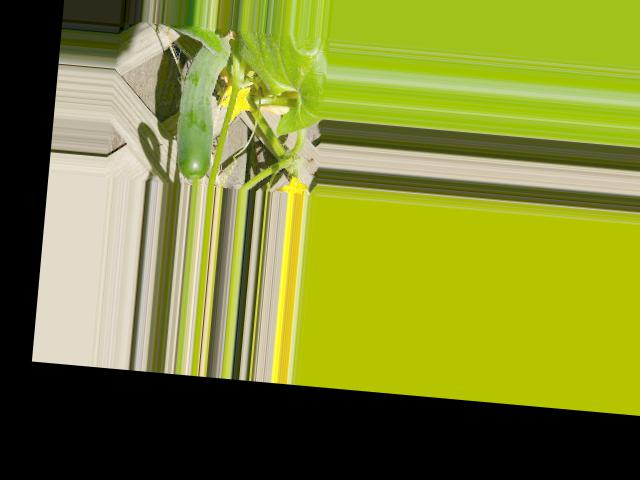cucumber: (172, 26, 232, 180)
